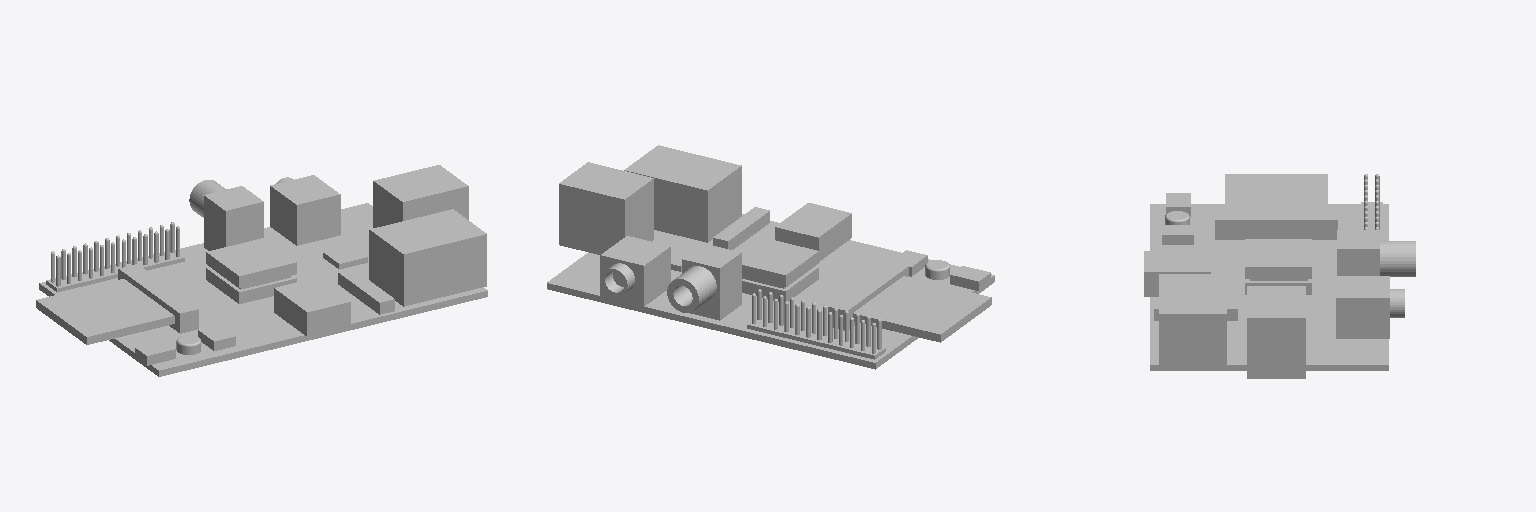
File: RaspPi_Board_ModelB.obj
3 views of the same model, side by side, from view 1: azimuth 30°, elevation 25°; view 2: azimuth 150°, elevation 25°; view 3: azimuth 270°, elevation 25° (orthographic).
Visible parts, largest first — view 1: Raspberry_Pi_Board_1 BOARD, Raspberry_Pi_Board_1 Ethernet, Raspberry_Pi_Board_1 SD_CardHolder SD_Card, Raspberry_Pi_Board_1 USB_2_0, Raspberry_Pi_Board_1 AudioJack_Base, Raspberry_Pi_Board_1 HDMI, Raspberry_Pi_Board_1 RCA_Video_Base_1, Raspberry_Pi_Board_1 Broadcom_BCM2835 Broadcom_BCM2835_Top, Raspberry_Pi_Board_1 SD_CardHolder, Raspberry_Pi_Board_1 CSI_ConnectorCamera, Raspberry_Pi_Board_1 Broadcom_BCM2835 Broadcom_BCM2835_Bottom, Raspberry_Pi_Board_1 GPIO_Headers (+4 smaller); view 2: Raspberry_Pi_Board_1 BOARD, Raspberry_Pi_Board_1 Ethernet, Raspberry_Pi_Board_1 USB_2_0, Raspberry_Pi_Board_1 SD_CardHolder SD_Card, Raspberry_Pi_Board_1 AudioJack_Base, Raspberry_Pi_Board_1 HDMI, Raspberry_Pi_Board_1 RCA_Video_Base_1, Raspberry_Pi_Board_1 Broadcom_BCM2835 Broadcom_BCM2835_Top, Raspberry_Pi_Board_1 SD_CardHolder, Raspberry_Pi_Board_1 RCA_Video_Base_1 RCA_Video_Tube, Raspberry_Pi_Board_1 GPIO_Headers, Raspberry_Pi_Board_1 CSI_ConnectorCamera (+3 smaller); view 3: Raspberry_Pi_Board_1 BOARD, Raspberry_Pi_Board_1 Ethernet, Raspberry_Pi_Board_1 USB_2_0, Raspberry_Pi_Board_1 SD_CardHolder SD_Card, Raspberry_Pi_Board_1 SD_CardHolder, Raspberry_Pi_Board_1 AudioJack_Base, Raspberry_Pi_Board_1 Broadcom_BCM2835 Broadcom_BCM2835_Top, Raspberry_Pi_Board_1 RCA_Video_Base_1, Raspberry_Pi_Board_1 HDMI, Raspberry_Pi_Board_1 RCA_Video_Base_1 RCA_Video_Tube, Raspberry_Pi_Board_1 RandomPart1.
Part boxes in pixels (bbox=[...]): Raspberry_Pi_Board_1 BOARD: bbox=[39, 203, 487, 376]; Raspberry_Pi_Board_1 Ethernet: bbox=[369, 209, 486, 306]; Raspberry_Pi_Board_1 SD_CardHolder SD_Card: bbox=[36, 279, 174, 344]; Raspberry_Pi_Board_1 USB_2_0: bbox=[373, 165, 468, 227]; Raspberry_Pi_Board_1 AudioJack_Base: bbox=[270, 175, 340, 245]; Raspberry_Pi_Board_1 HDMI: bbox=[274, 277, 350, 336]; Raspberry_Pi_Board_1 RCA_Video_Base_1: bbox=[204, 186, 263, 250]; Raspberry_Pi_Board_1 Broadcom_BCM2835 Broadcom_BCM2835_Top: bbox=[206, 238, 296, 287]; Raspberry_Pi_Board_1 SD_CardHolder: bbox=[118, 264, 198, 333]; Raspberry_Pi_Board_1 CSI_ConnectorCamera: bbox=[338, 268, 394, 314]; Raspberry_Pi_Board_1 Broadcom_BCM2835 Broadcom_BCM2835_Bottom: bbox=[206, 267, 296, 303]; Raspberry_Pi_Board_1 GPIO_Headers: bbox=[46, 251, 184, 292]; Raspberry_Pi_Board_1 BOARD: bbox=[547, 214, 994, 369]; Raspberry_Pi_Board_1 Ethernet: bbox=[624, 145, 741, 242]; Raspberry_Pi_Board_1 USB_2_0: bbox=[559, 162, 653, 254]; Raspberry_Pi_Board_1 SD_CardHolder SD_Card: bbox=[853, 276, 991, 342]; Raspberry_Pi_Board_1 AudioJack_Base: bbox=[600, 236, 670, 306]; Raspberry_Pi_Board_1 HDMI: bbox=[775, 203, 851, 261]; Raspberry_Pi_Board_1 RCA_Video_Base_1: bbox=[682, 243, 741, 320]; Raspberry_Pi_Board_1 Broadcom_BCM2835 Broadcom_BCM2835_Top: bbox=[742, 237, 818, 286]; Raspberry_Pi_Board_1 SD_CardHolder: bbox=[828, 262, 908, 330]; Raspberry_Pi_Board_1 RCA_Video_Base_1 RCA_Video_Tube: bbox=[667, 266, 716, 312]; Raspberry_Pi_Board_1 GPIO_Headers: bbox=[747, 318, 885, 359]; Raspberry_Pi_Board_1 CSI_ConnectorCamera: bbox=[713, 207, 769, 249]; Raspberry_Pi_Board_1 BOARD: bbox=[1150, 204, 1388, 370]; Raspberry_Pi_Board_1 Ethernet: bbox=[1159, 274, 1226, 366]; Raspberry_Pi_Board_1 USB_2_0: bbox=[1247, 286, 1305, 378]; Raspberry_Pi_Board_1 SD_CardHolder SD_Card: bbox=[1225, 174, 1327, 210]; Raspberry_Pi_Board_1 SD_CardHolder: bbox=[1215, 211, 1337, 239]; Raspberry_Pi_Board_1 AudioJack_Base: bbox=[1336, 276, 1389, 338]; Raspberry_Pi_Board_1 Broadcom_BCM2835 Broadcom_BCM2835_Top: bbox=[1245, 239, 1311, 278]; Raspberry_Pi_Board_1 RCA_Video_Base_1: bbox=[1337, 230, 1379, 275]; Raspberry_Pi_Board_1 HDMI: bbox=[1144, 251, 1210, 296]; Raspberry_Pi_Board_1 RCA_Video_Base_1 RCA_Video_Tube: bbox=[1380, 241, 1415, 276]; Raspberry_Pi_Board_1 RandomPart1: bbox=[1162, 225, 1193, 244].
Size of the model in its own units: 102 by 16.9 by 61.14.